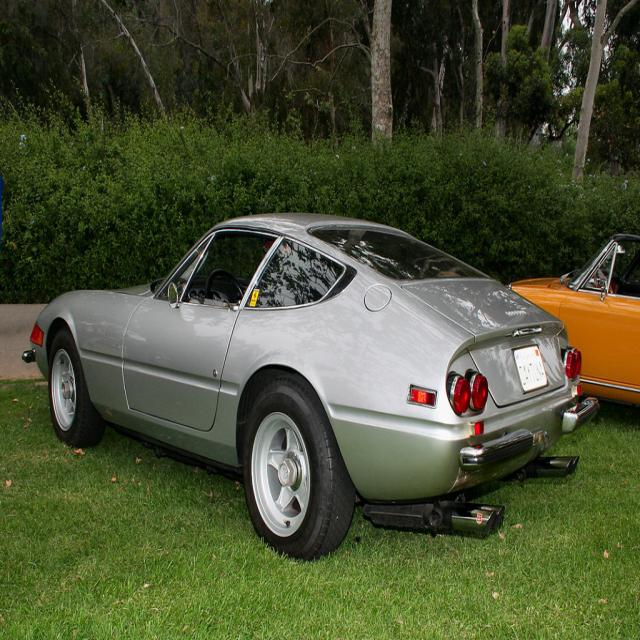car: (22, 213, 594, 561)
